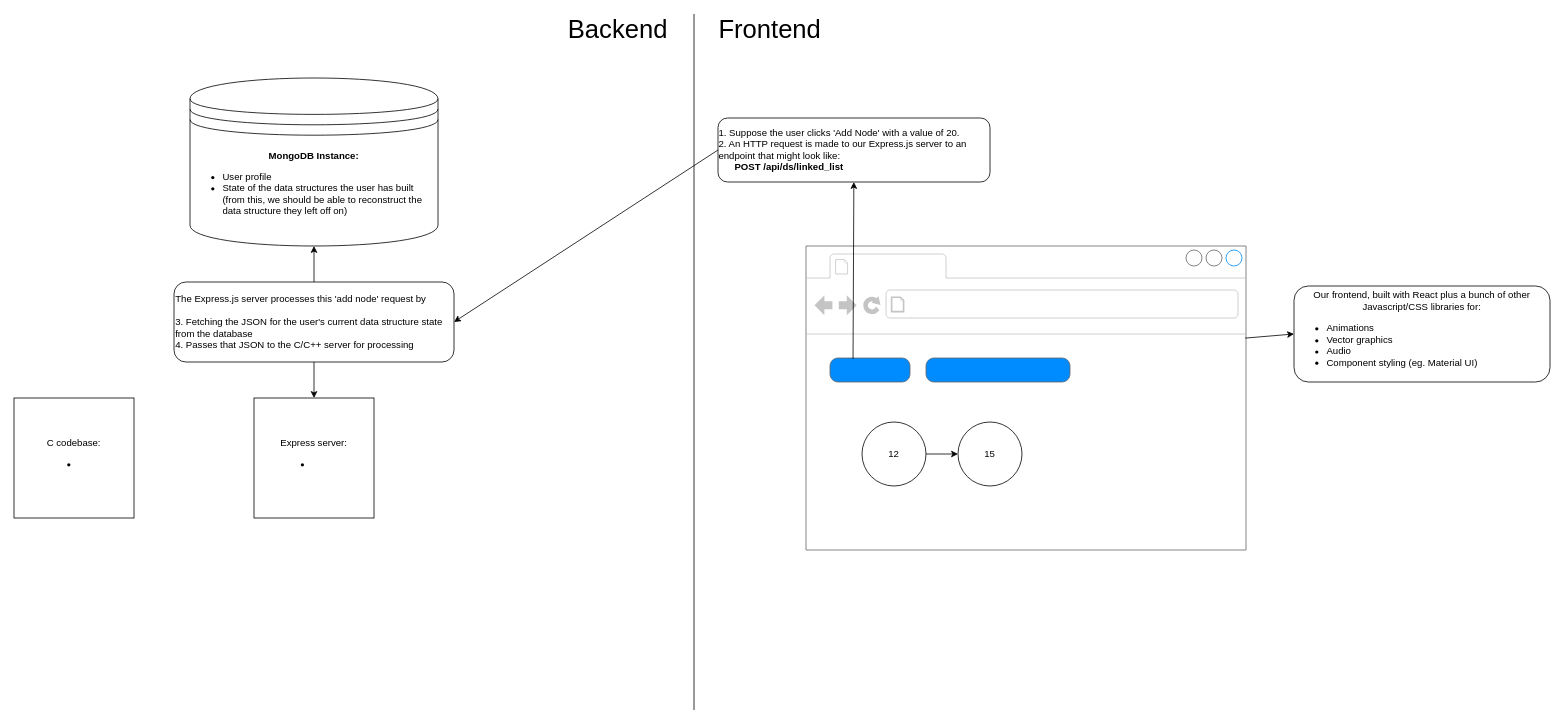
The diagram is 1564 pixels wide and 725 high, and some of its shapes have lost their labels. Here are the shapes that lost their labels. From the top down, the box of each, then its label:
(853, 255, 942, 276): Page 1
(909, 293, 1222, 318): https://www.structs.sh/ds/linked-list
(829, 357, 910, 382): Add Node
(925, 357, 1070, 382): Other Functions...
